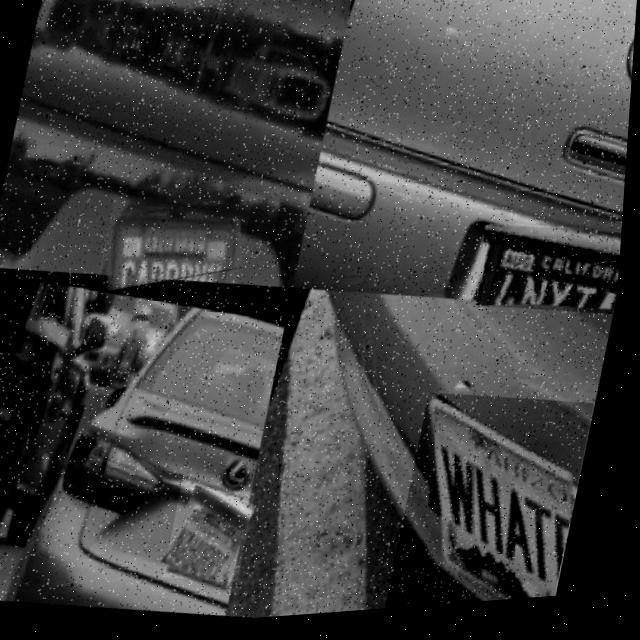LicensePlate: (435, 400, 581, 607), (100, 188, 256, 304), (481, 233, 625, 314), (170, 487, 264, 591)
